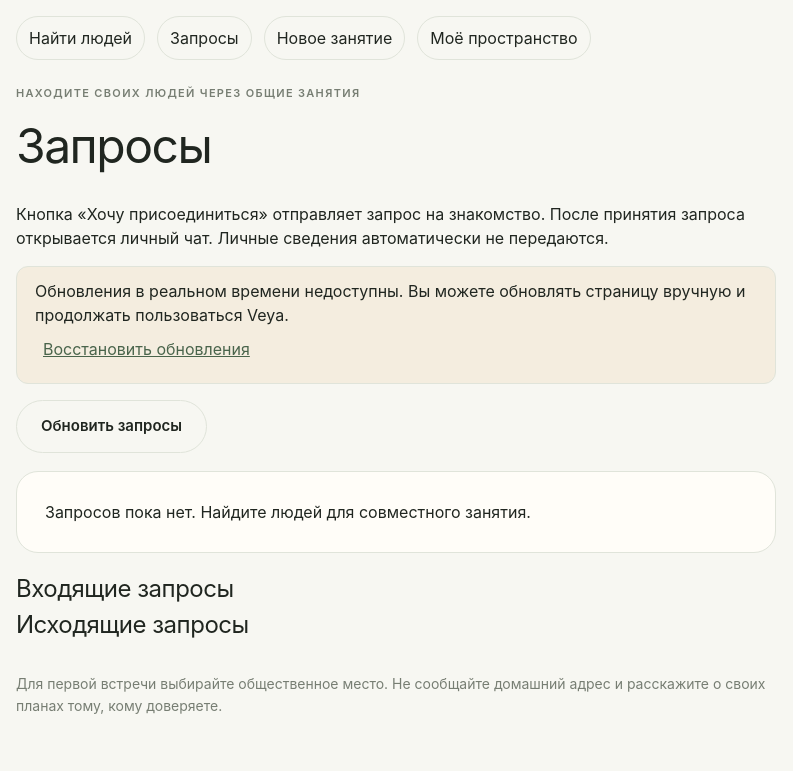
Scenario: reloads incoming requests and provides a finite live retry alongside manual refresh
Expected: the text "Запросов пока нет. Найдите людей для совместного занятия." is shown, x1=16 y1=471 x2=776 y2=553
Expected: the text "Обновления в реальном времени недоступны" is shown, x1=35 y1=281 x2=745 y2=325
Click the button "Восстановить обновления": (146,349) x1=35 y1=327 x2=258 y2=371
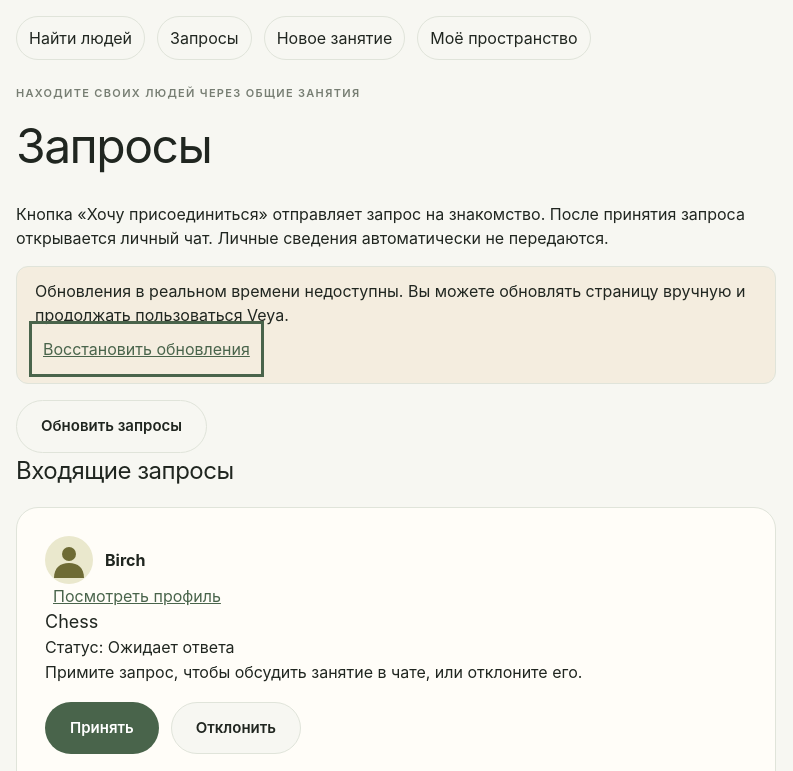
Expected: the button "Обновить запросы" is shown, x1=16 y1=400 x2=207 y2=453
Result: the button "Принять" is shown at x1=45 y1=702 x2=159 y2=754
